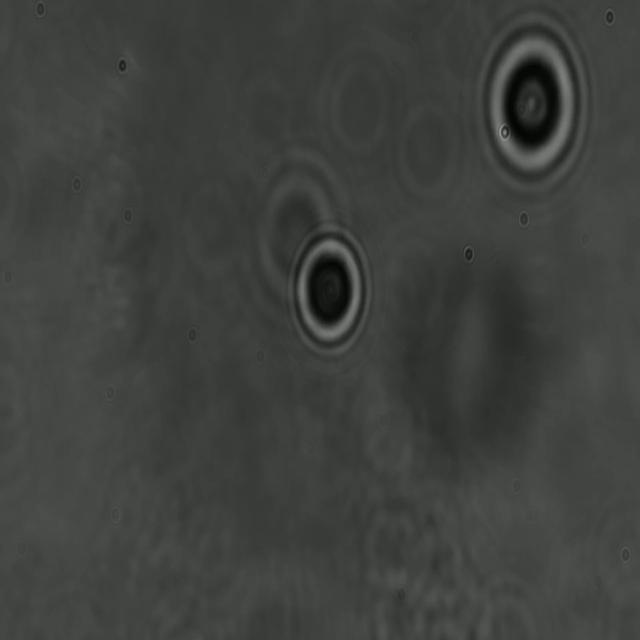DCELL: (280, 214, 379, 362)
LCELL: (469, 11, 596, 198)
